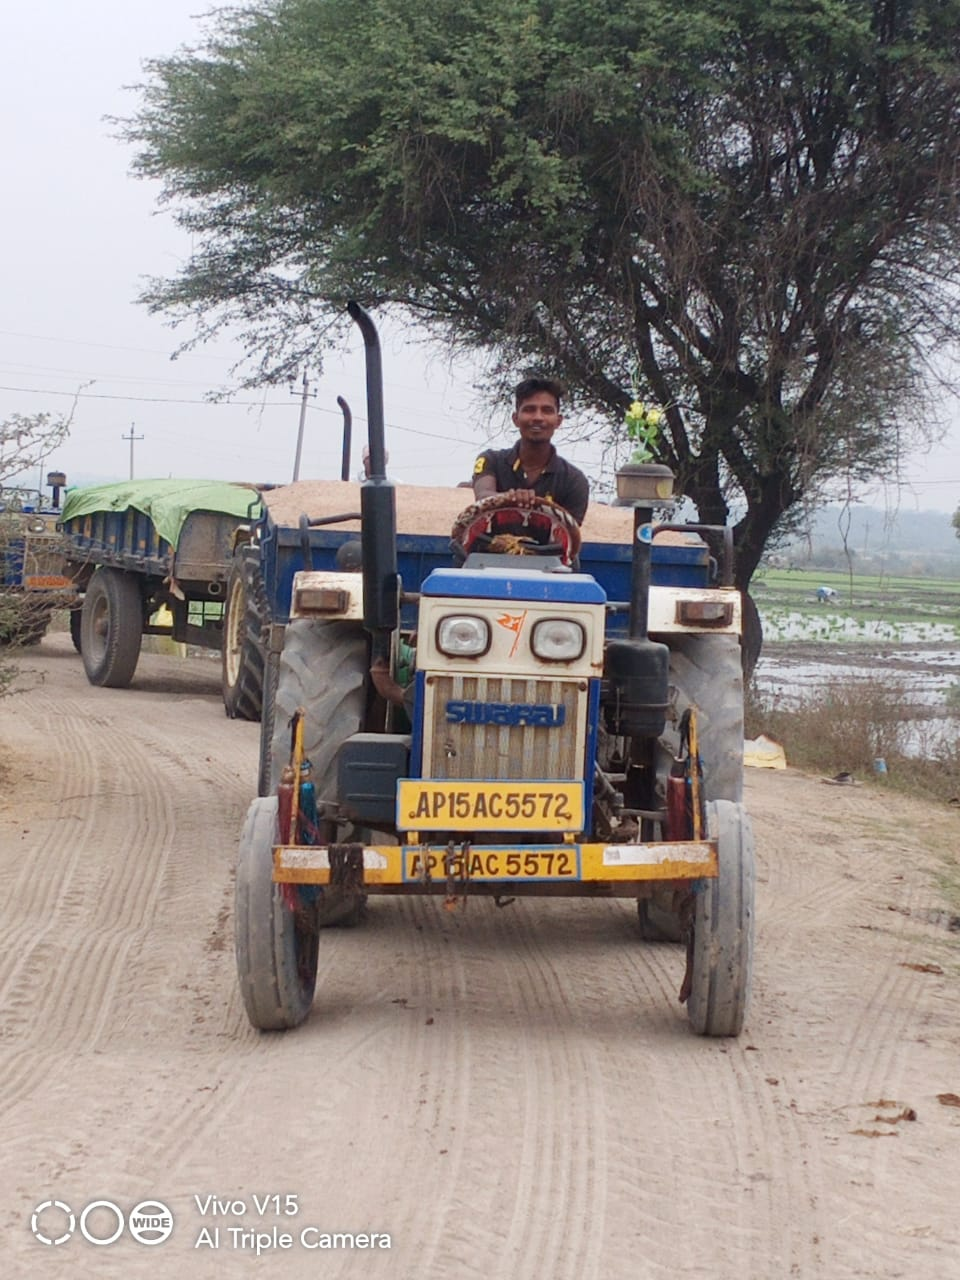num_plate: (402, 845, 581, 878)
